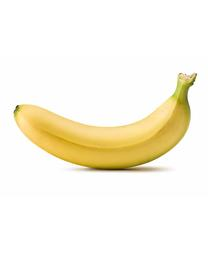banana: (16, 71, 196, 169)
